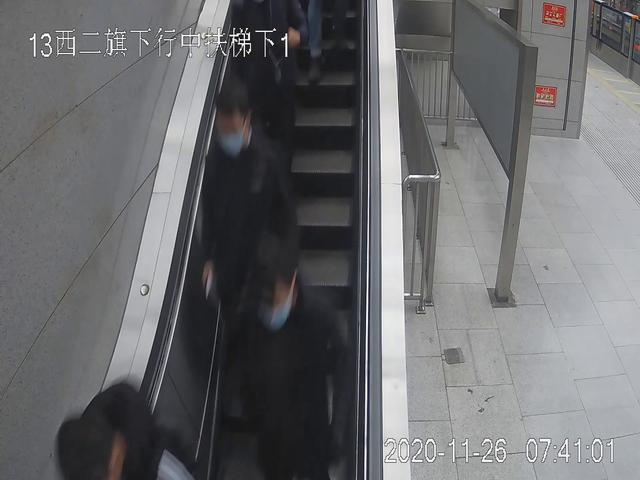person: (203, 84, 299, 382), (231, 238, 349, 480)
